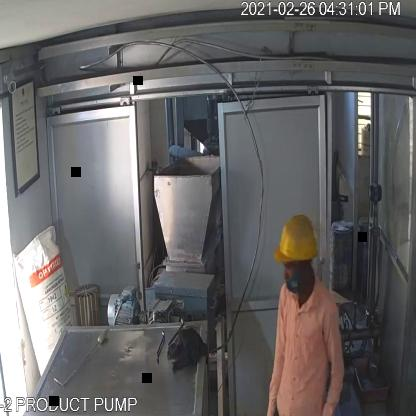helmet: (270, 208, 324, 268)
